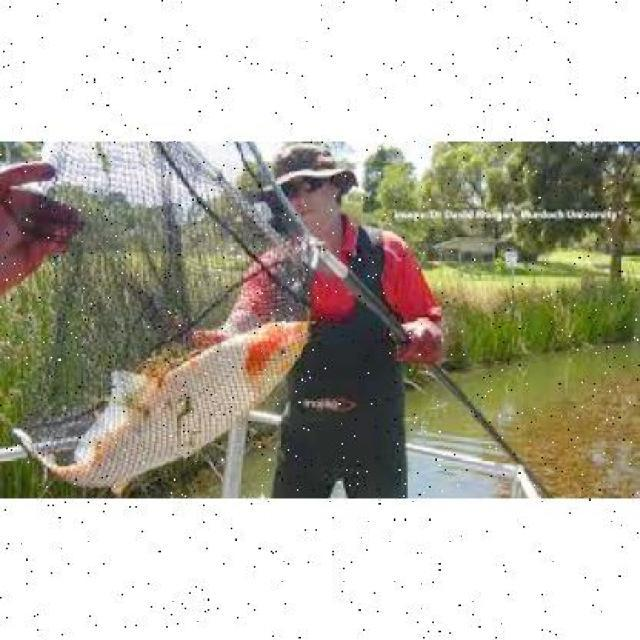ikan-mas: (25, 306, 307, 492)
